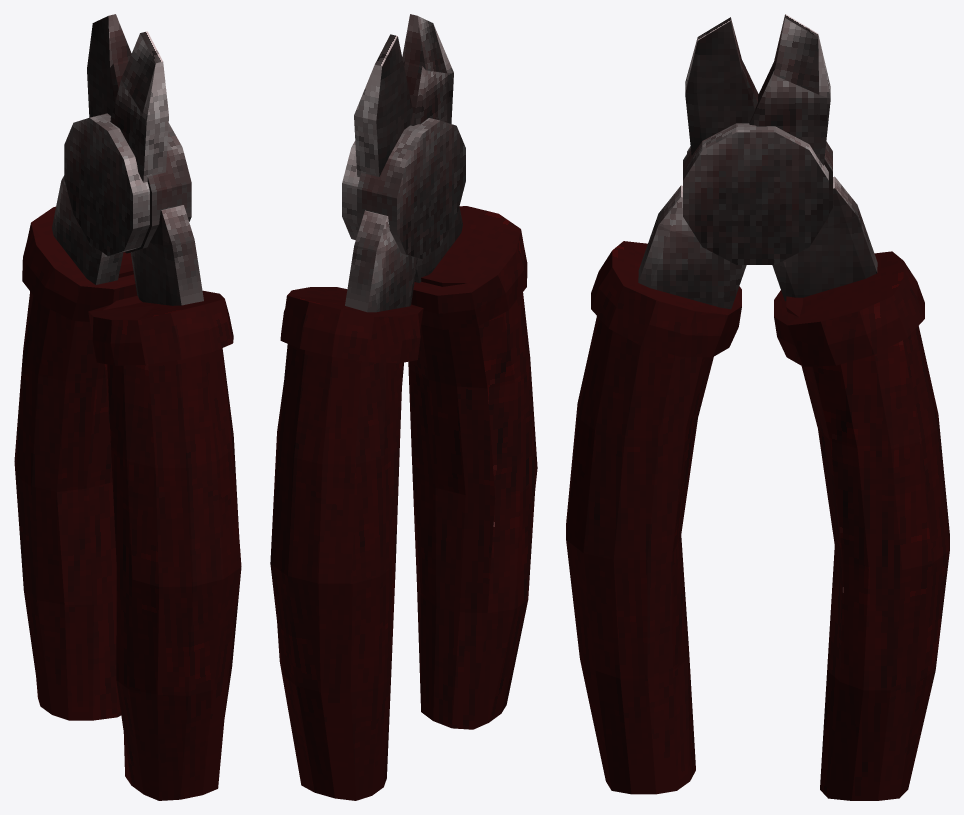
File: clippers-4TI73ERT.gltf
The picture shows the model from 3 angles, left to right: view 1: azimuth 30°, elevation 25°; view 2: azimuth 150°, elevation 25°; view 3: azimuth 270°, elevation 25°; orthographic projection. The views are drawn at different scales.
Visible parts, largest first — view 1: handle (×2), guard (×2), hinge (×2), blade (×2), stem (×2); view 2: handle (×2), guard (×2), hinge (×2), blade (×2), stem (×2); view 3: handle (×2), guard (×2), hinge, blade (×2), stem (×2).
Boxes of the visible parts, x1=… form: handle (×2): x1=14, y1=263, x2=241, y2=800; guard (×2): x1=22, y1=206, x2=233, y2=365; hinge (×2): x1=64, y1=113, x2=191, y2=255; blade (×2): x1=87, y1=14, x2=168, y2=182; stem (×2): x1=52, y1=175, x2=203, y2=305; handle (×2): x1=270, y1=272, x2=537, y2=800; guard (×2): x1=280, y1=206, x2=527, y2=363; hinge (×2): x1=342, y1=118, x2=465, y2=258; blade (×2): x1=354, y1=14, x2=453, y2=177; stem (×2): x1=345, y1=207, x2=462, y2=312; handle (×2): x1=566, y1=296, x2=949, y2=800; guard (×2): x1=591, y1=241, x2=924, y2=366; hinge: x1=683, y1=123, x2=828, y2=264; blade (×2): x1=685, y1=14, x2=830, y2=165; stem (×2): x1=638, y1=176, x2=877, y2=309.
Size of the model in its own units: 0.4309 by 2.16 by 0.9852.
1 material, 1 textured.
